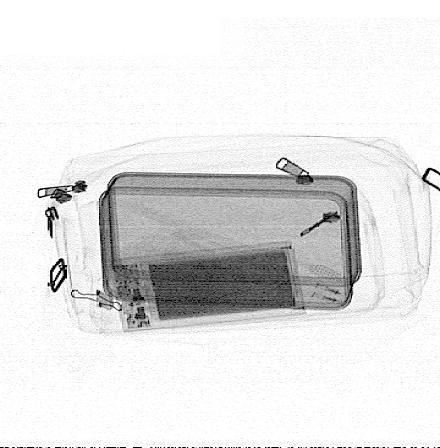Powerbank: (108, 242, 308, 333)
